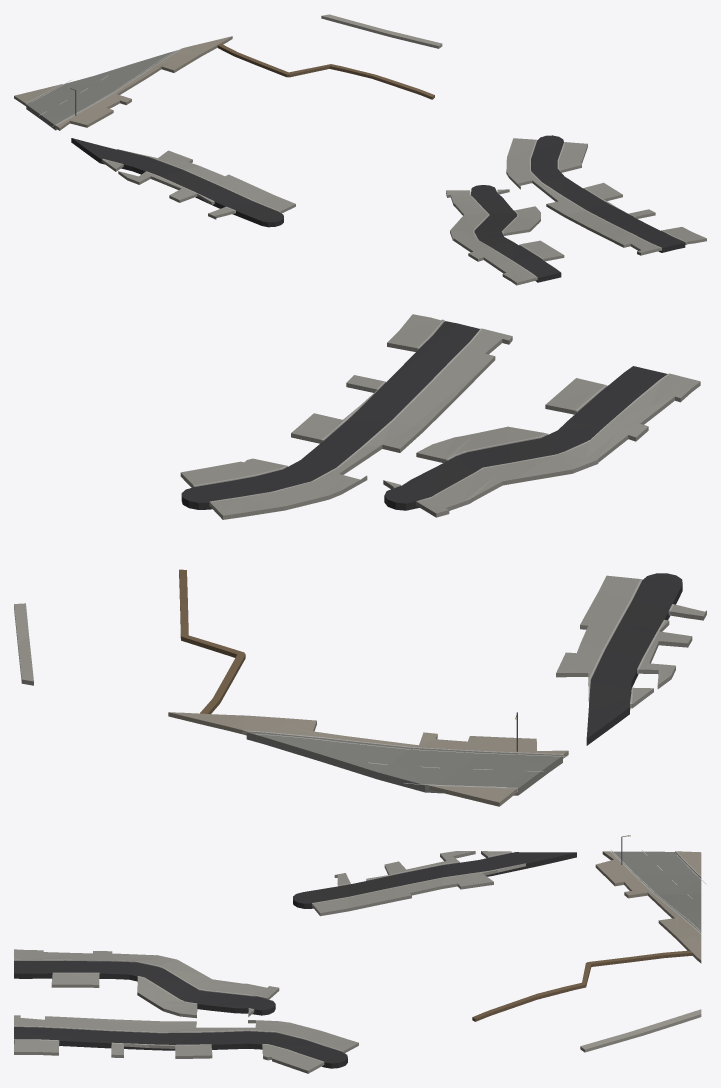
Rendered from 18-218882-118928.e7c23ead.glb.
3 renders of one model, top to bottom at view 1: azimuth 30°, elevation 25°; view 2: azimuth 150°, elevation 25°; view 3: azimuth 270°, elevation 25°, orthographic. The views are drawn at different scales.
Bounding box in the file's own units: 105 × 10.68 × 147.
